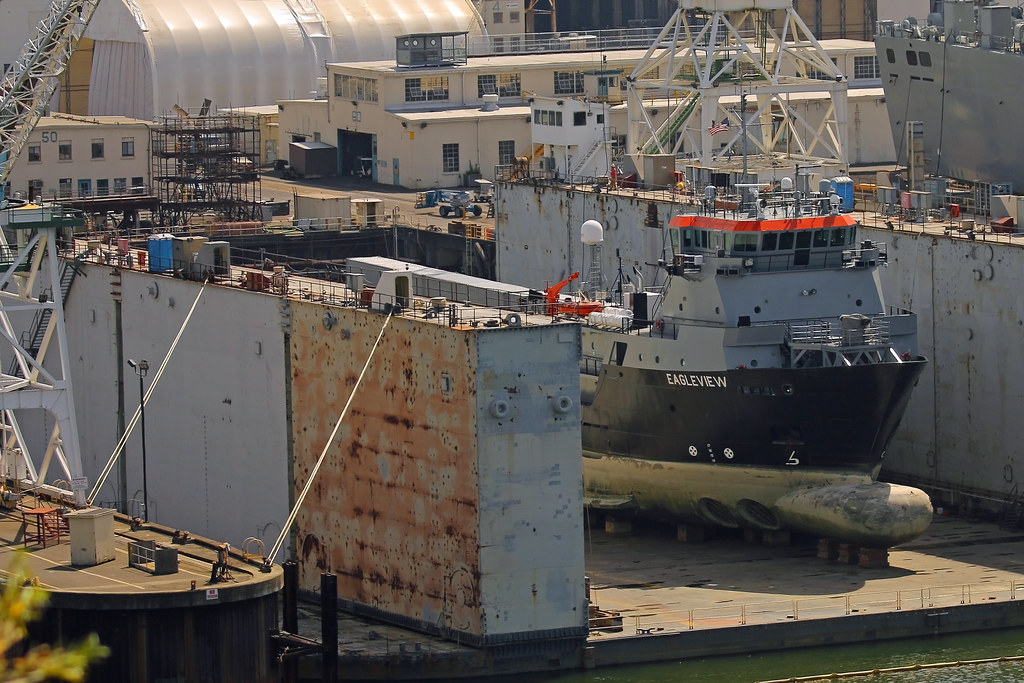rust: (285, 301, 484, 625)
